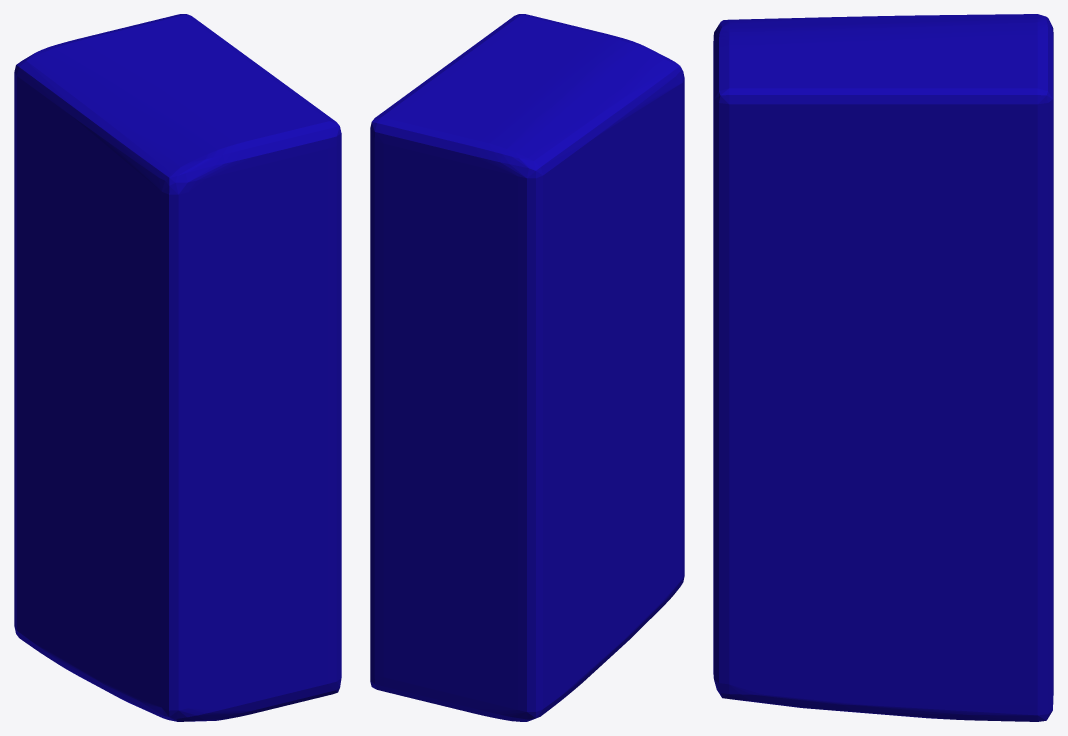
File: right_f_distal_pst_part_5.obj
3 views of the same model, side by side, from view 1: azimuth 30°, elevation 25°; view 2: azimuth 150°, elevation 25°; view 3: azimuth 270°, elevation 25° (orthographic). The views are drawn at different scales.
Bounding box in the file's own units: 4.55 × 14.56 × 7.09.
